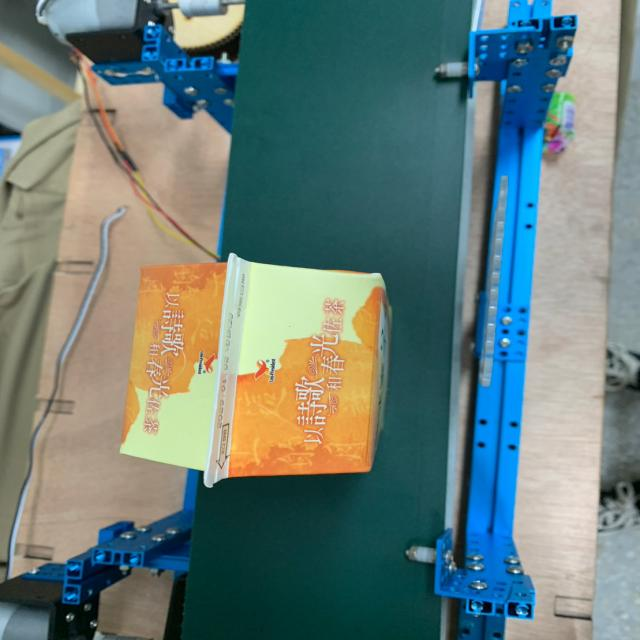non_white_jug: (91, 238, 409, 501)
